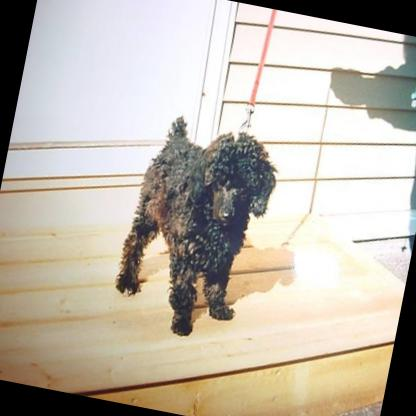miniature_poodle: (104, 107, 284, 354)
